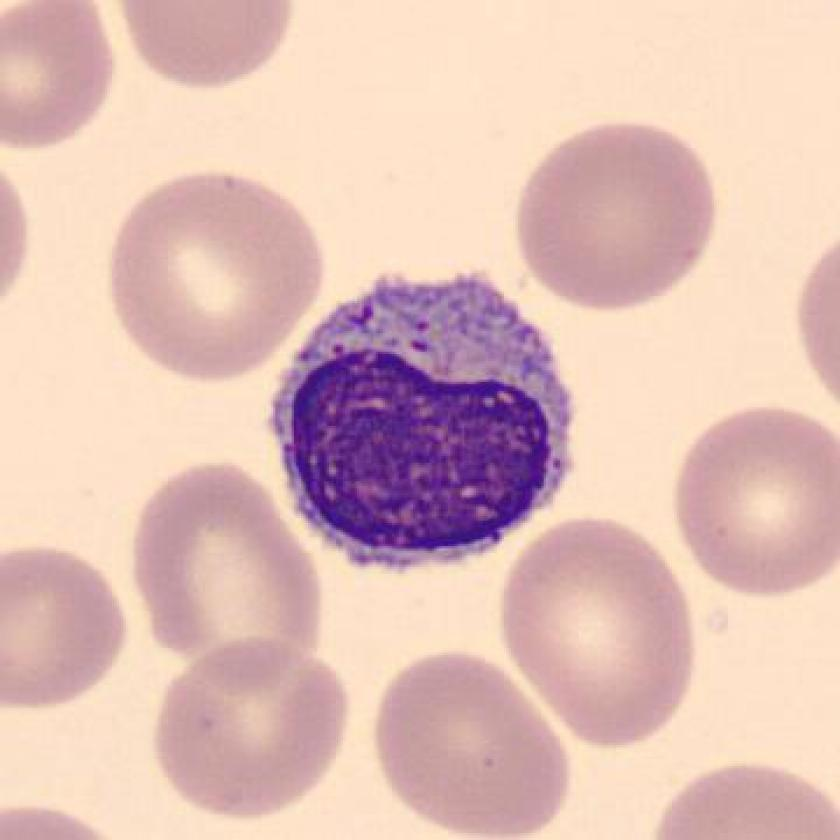lymphocyte: (255, 258, 601, 591)
